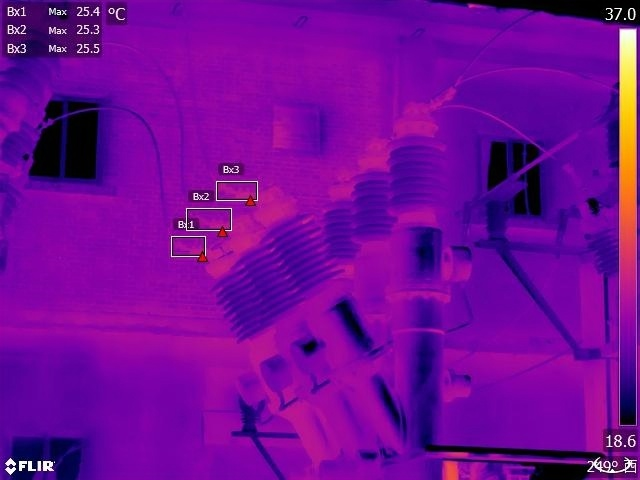post insulator: (585, 223, 618, 280), (480, 192, 516, 244)
potential transformer: (250, 181, 391, 375), (190, 231, 321, 418), (227, 202, 343, 386), (385, 91, 476, 316), (350, 132, 425, 337), (317, 173, 375, 307)
